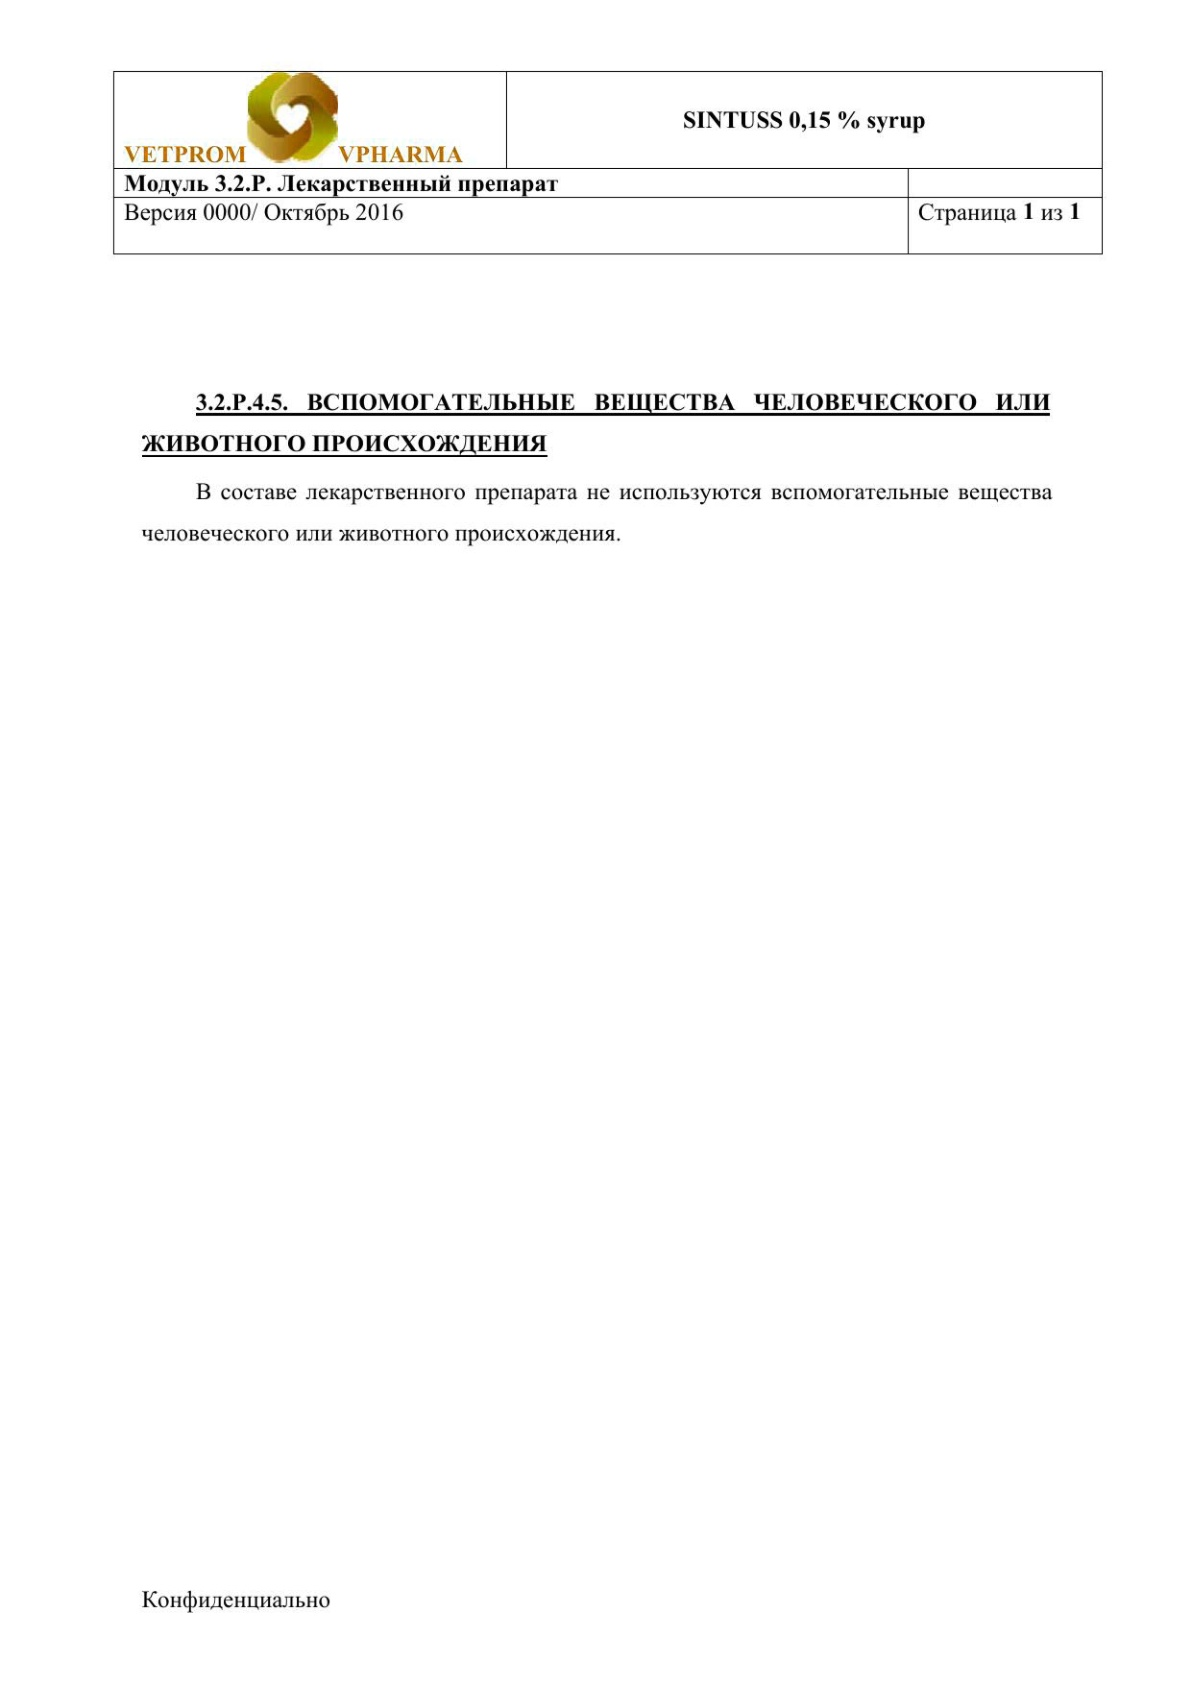merged_cells: (111, 70, 1104, 255)
